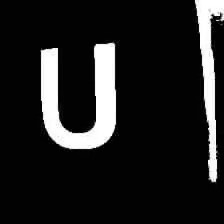LTR_U: (29, 30, 119, 156)
